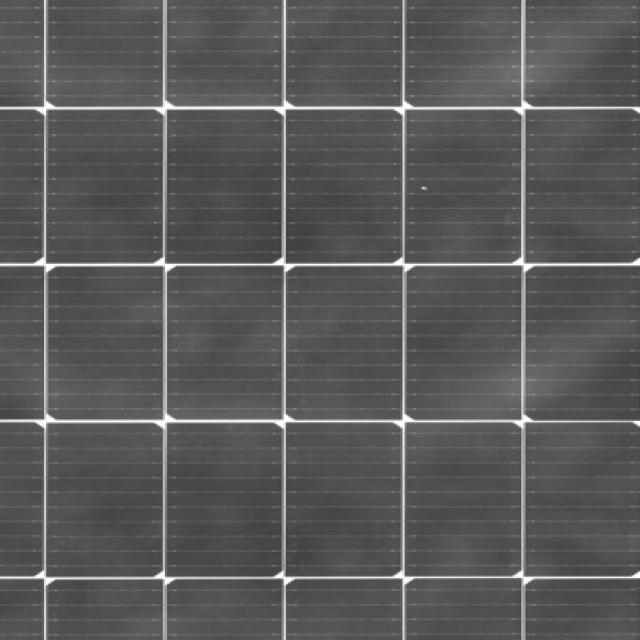CORRECT: (2, 0, 640, 640), (78, 58, 610, 576)
